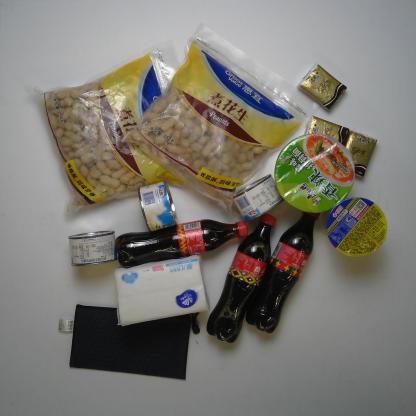Canned Food: (229, 168, 288, 223), (136, 180, 178, 234), (68, 229, 120, 269)
Dried Food: (120, 22, 315, 215), (32, 42, 213, 224)
Drink: (246, 204, 321, 334), (206, 208, 276, 345), (115, 219, 252, 271)
Instant Noodles: (275, 131, 358, 216), (323, 190, 388, 261)
Stationery: (58, 299, 199, 383)
Tissue: (114, 245, 210, 329), (297, 61, 351, 111), (340, 128, 386, 182), (301, 117, 353, 158)
